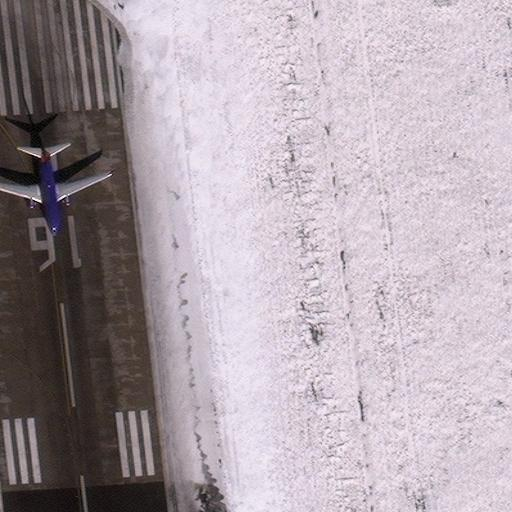Medium Civil Transport: (0, 146, 112, 237)
